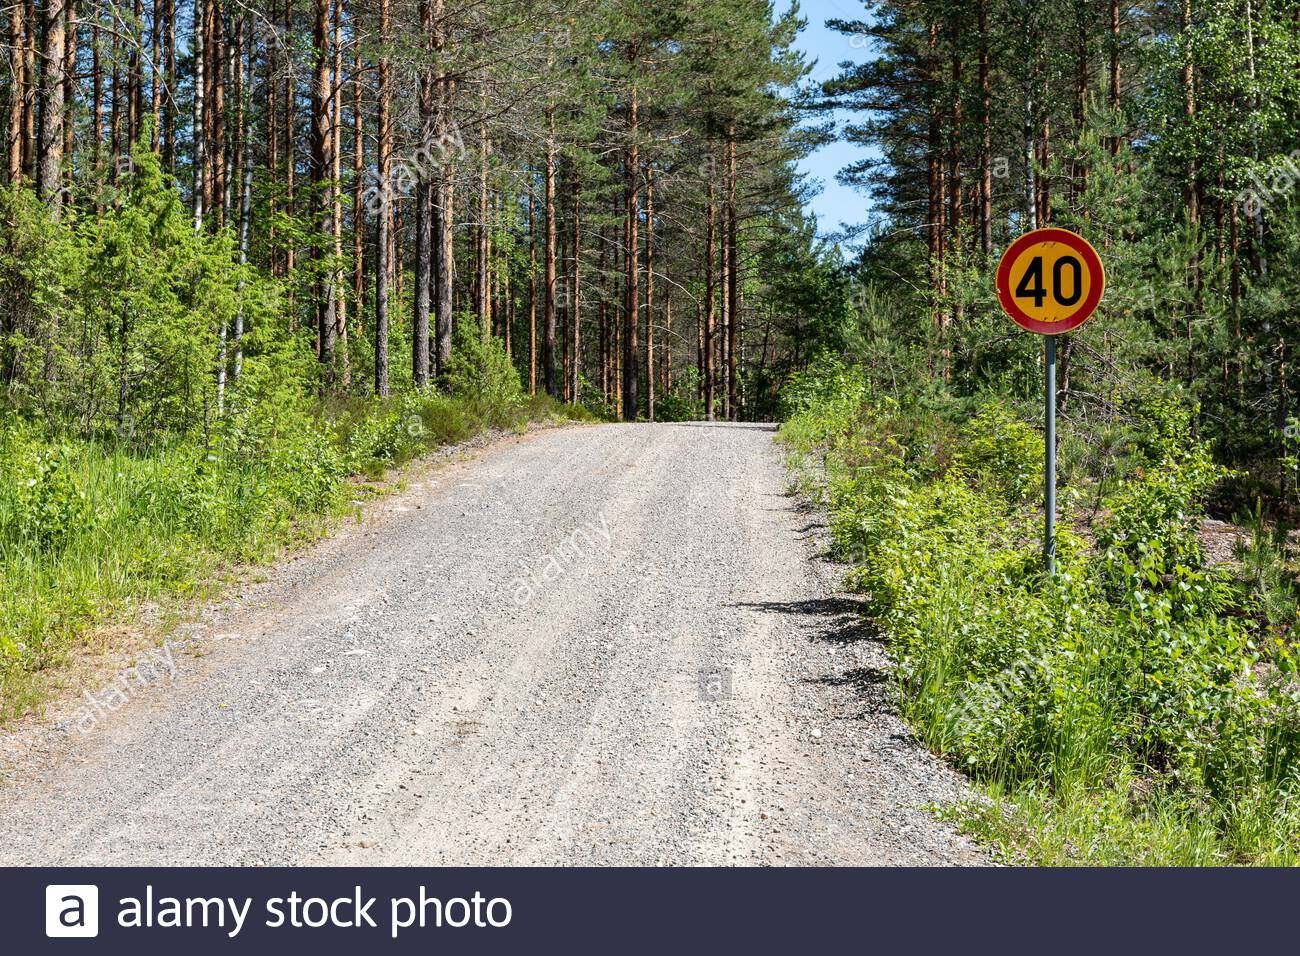speed_limit_40: (997, 224, 1102, 336)
